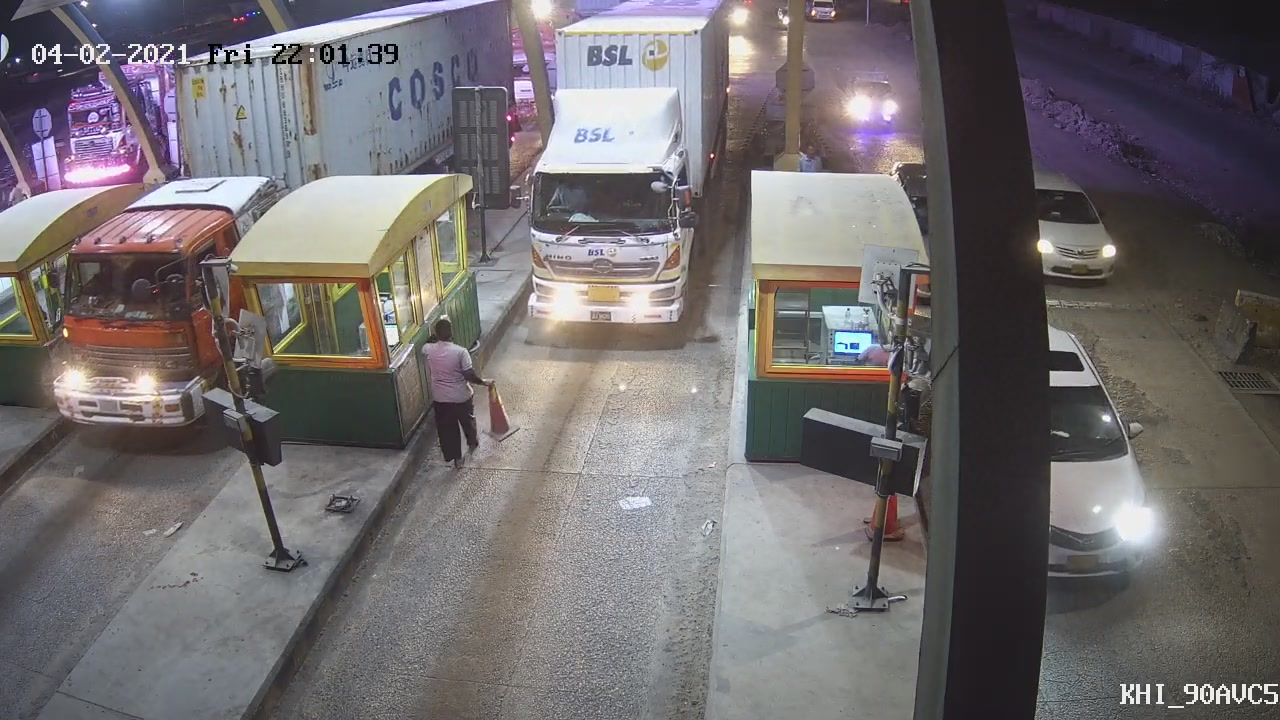F6: (510, 101, 710, 337)
